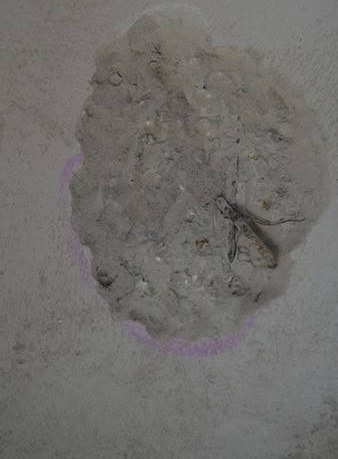Exposed reinforcement: (214, 195, 278, 269)
Spalling: (68, 2, 338, 347)
